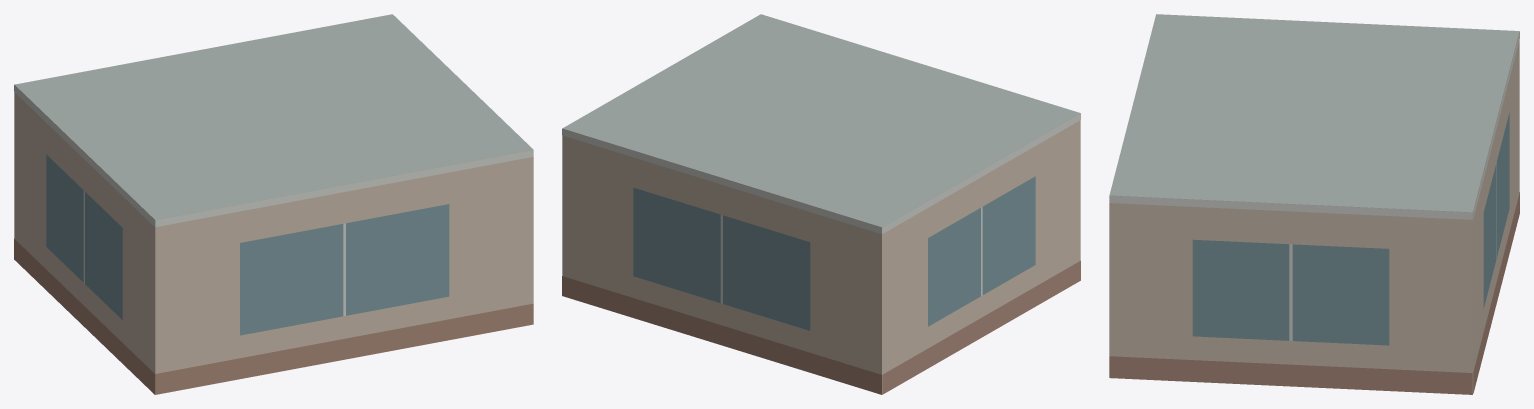
File: survey-upis-32813603.glb
3 renders of one model, left to right at view 1: azimuth 30°, elevation 25°; view 2: azimuth 150°, elevation 25°; view 3: azimuth 270°, elevation 25°, orthographic. The views are drawn at different scales.
Visible parts, largest first — view 1: survey-upis-32813603.tmp; view 2: survey-upis-32813603.tmp; view 3: survey-upis-32813603.tmp.
Part boxes in pixels (<box>): survey-upis-32813603.tmp: <box>14,14,533,394</box>; survey-upis-32813603.tmp: <box>562,14,1080,394</box>; survey-upis-32813603.tmp: <box>1109,14,1519,394</box>.
Size of the model in its own units: 7.12 by 3.05 by 6.23.
